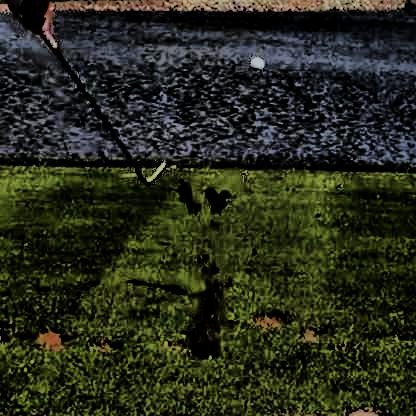golfball: (249, 54, 266, 72)
